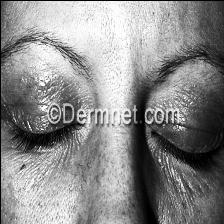Toxin: (7, 61, 74, 102), (161, 160, 223, 202), (176, 80, 224, 133), (8, 140, 82, 170)
